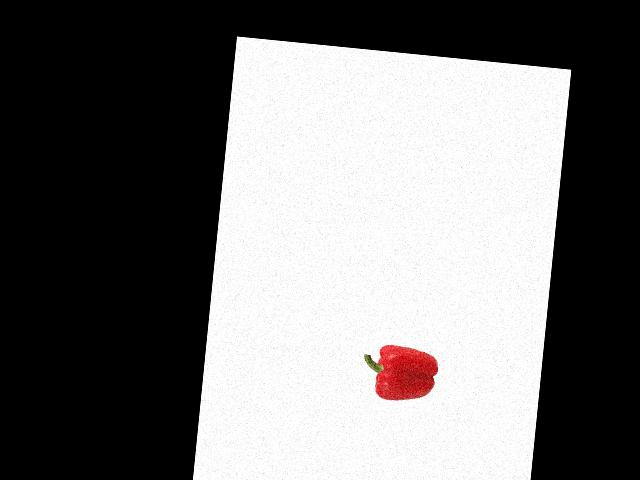bell_pepper: (359, 339, 440, 412)
